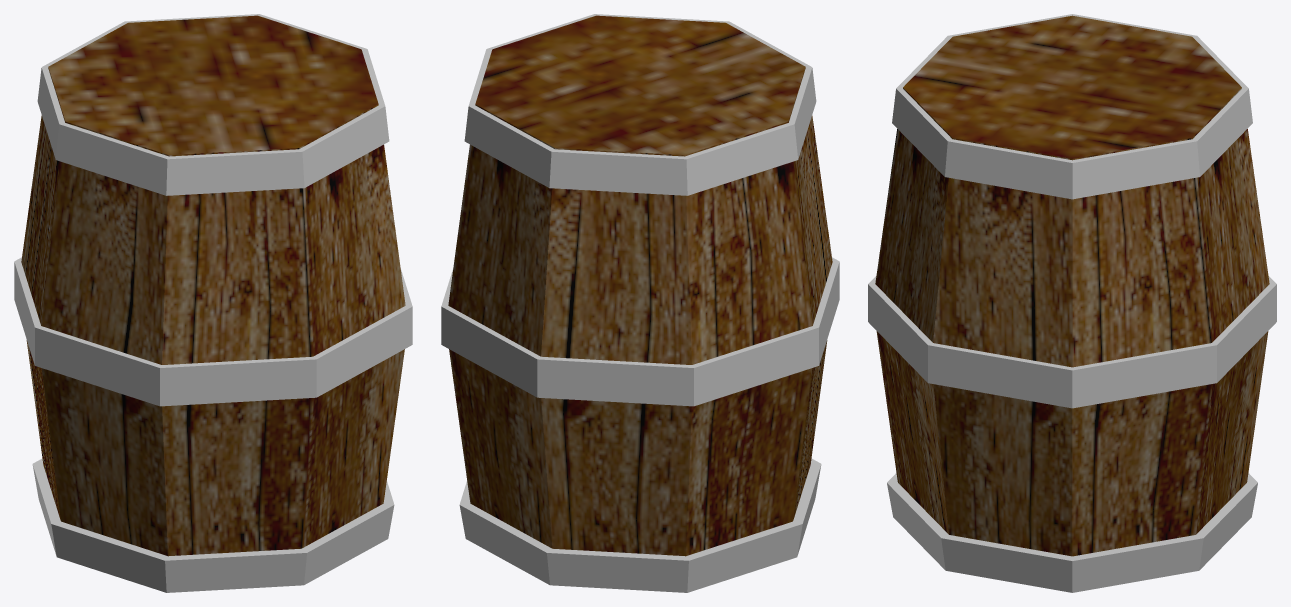
The model's file is barril.fbx.
The picture shows the model from 3 angles, left to right: view 1: azimuth 30°, elevation 25°; view 2: azimuth 150°, elevation 25°; view 3: azimuth 270°, elevation 25°; orthographic projection.
Parts seen in each view (by area): view 1: Cylinder, Cylinder.001; view 2: Cylinder, Cylinder.001; view 3: Cylinder, Cylinder.001.
Boxes of the visible parts, left/top/right/bottom form: Cylinder: left=21, top=15, right=405, bottom=556; Cylinder.001: left=14, top=14, right=412, bottom=592; Cylinder: left=448, top=15, right=832, bottom=556; Cylinder.001: left=441, top=14, right=839, bottom=592; Cylinder: left=875, top=15, right=1269, bottom=556; Cylinder.001: left=868, top=14, right=1276, bottom=592.
Bounding box in the file's own units: 241 × 281 × 241.
